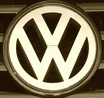Volkswagen: (4, 2, 100, 93)
